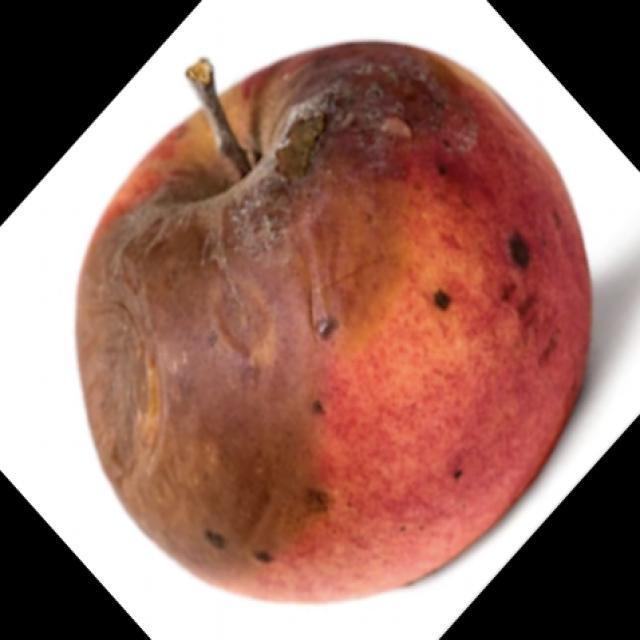Rotten: (83, 59, 572, 574)
